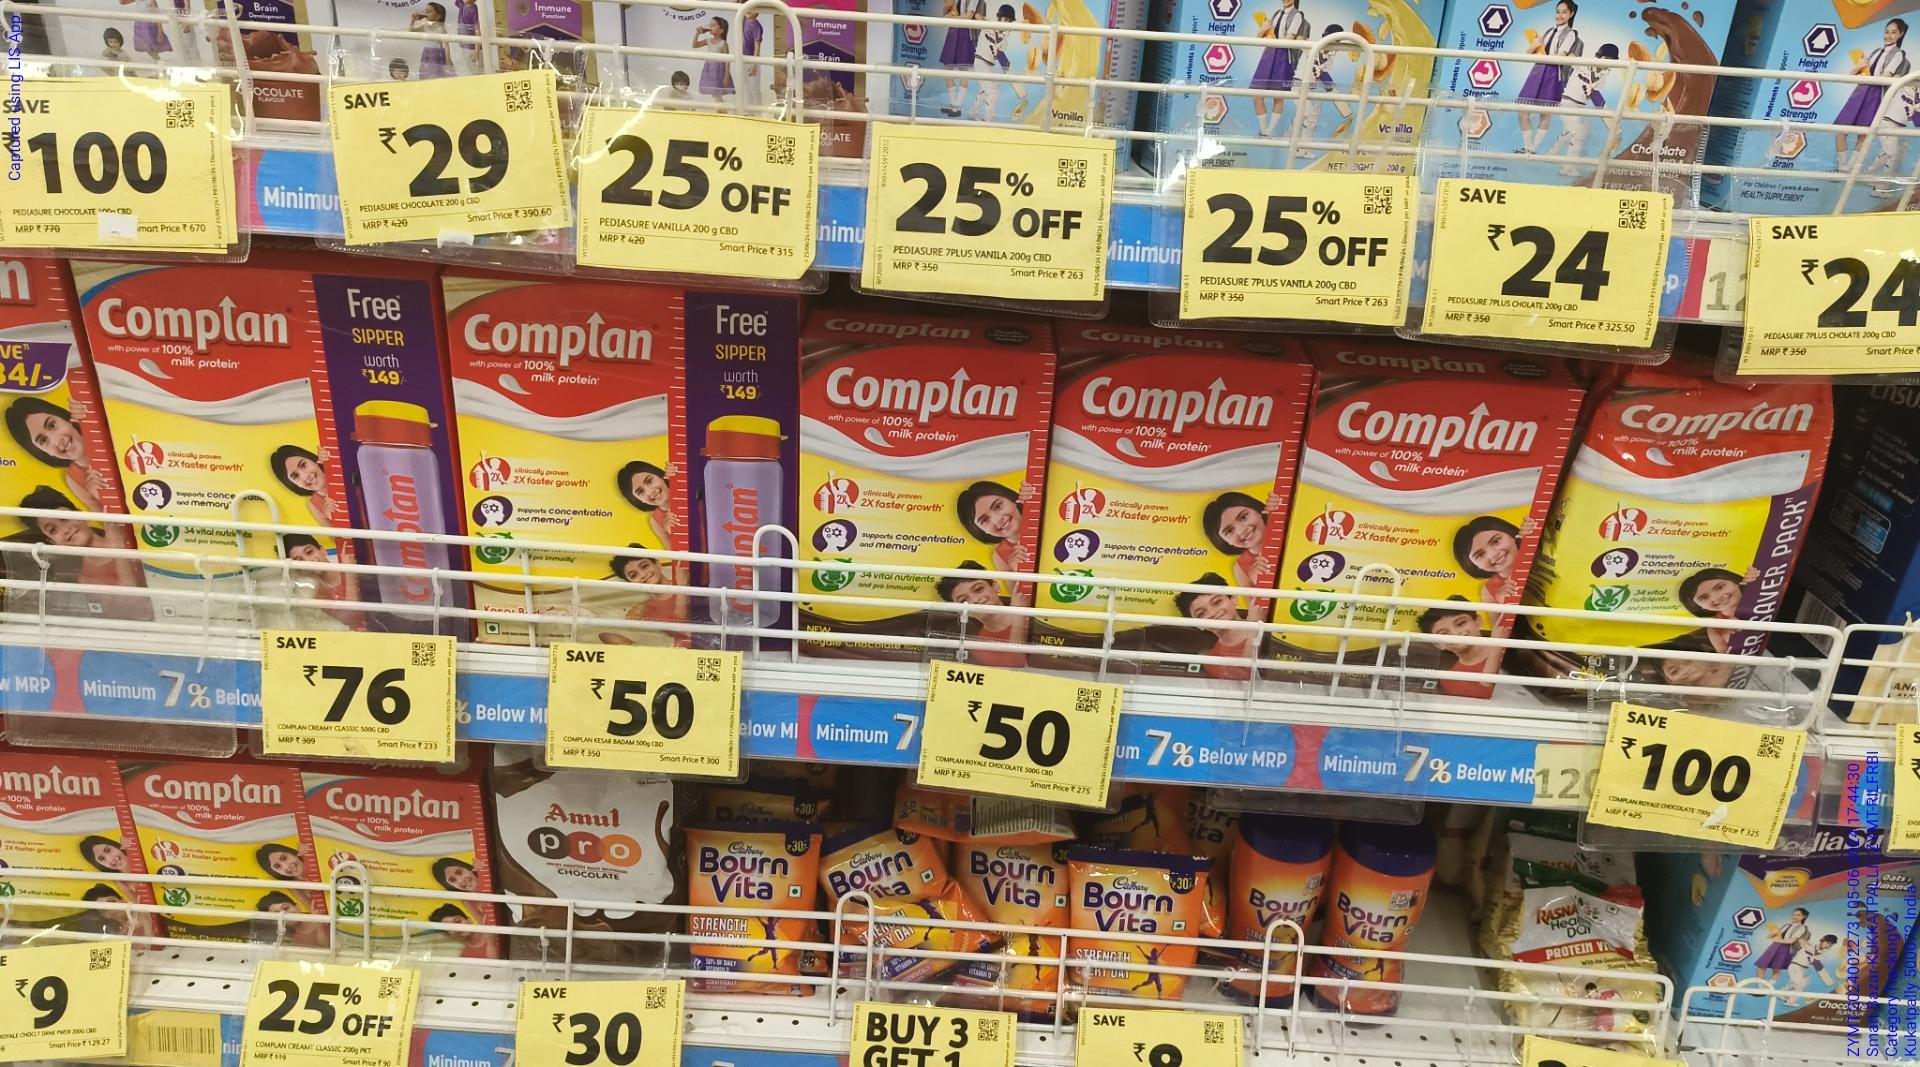BOURN_VITA_200_G_JAR: (1223, 815, 1325, 1004), (1332, 820, 1429, 1016)
BOURN_VITA_75_G_POUCH: (687, 823, 812, 1000), (1072, 844, 1208, 995)
COMPLAN_CHOCOLATE_200_GMS_PACK: (134, 758, 318, 947)
COMPLAN_CHOCOLATE_500_GMS_PACK: (802, 336, 1047, 670), (1291, 378, 1548, 695), (1052, 353, 1284, 675)
COMPLAN_RC_POUCH_700_GMS_12: (1555, 363, 1819, 715)
